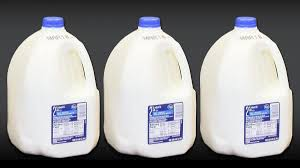milk: (102, 17, 197, 155), (202, 15, 294, 157), (11, 18, 99, 154)
